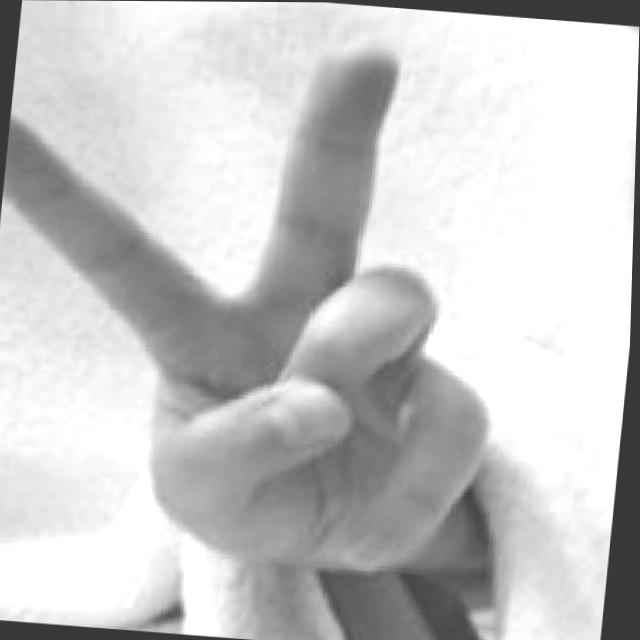V: (0, 12, 527, 583)
